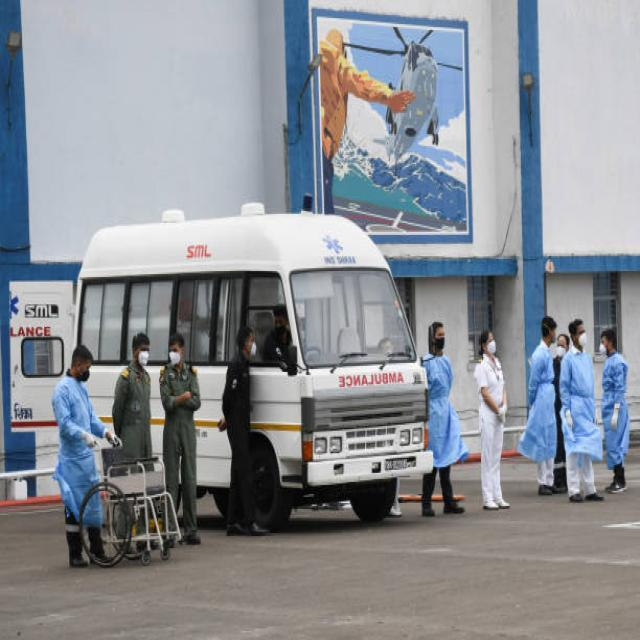ambulance: (86, 193, 423, 526)
